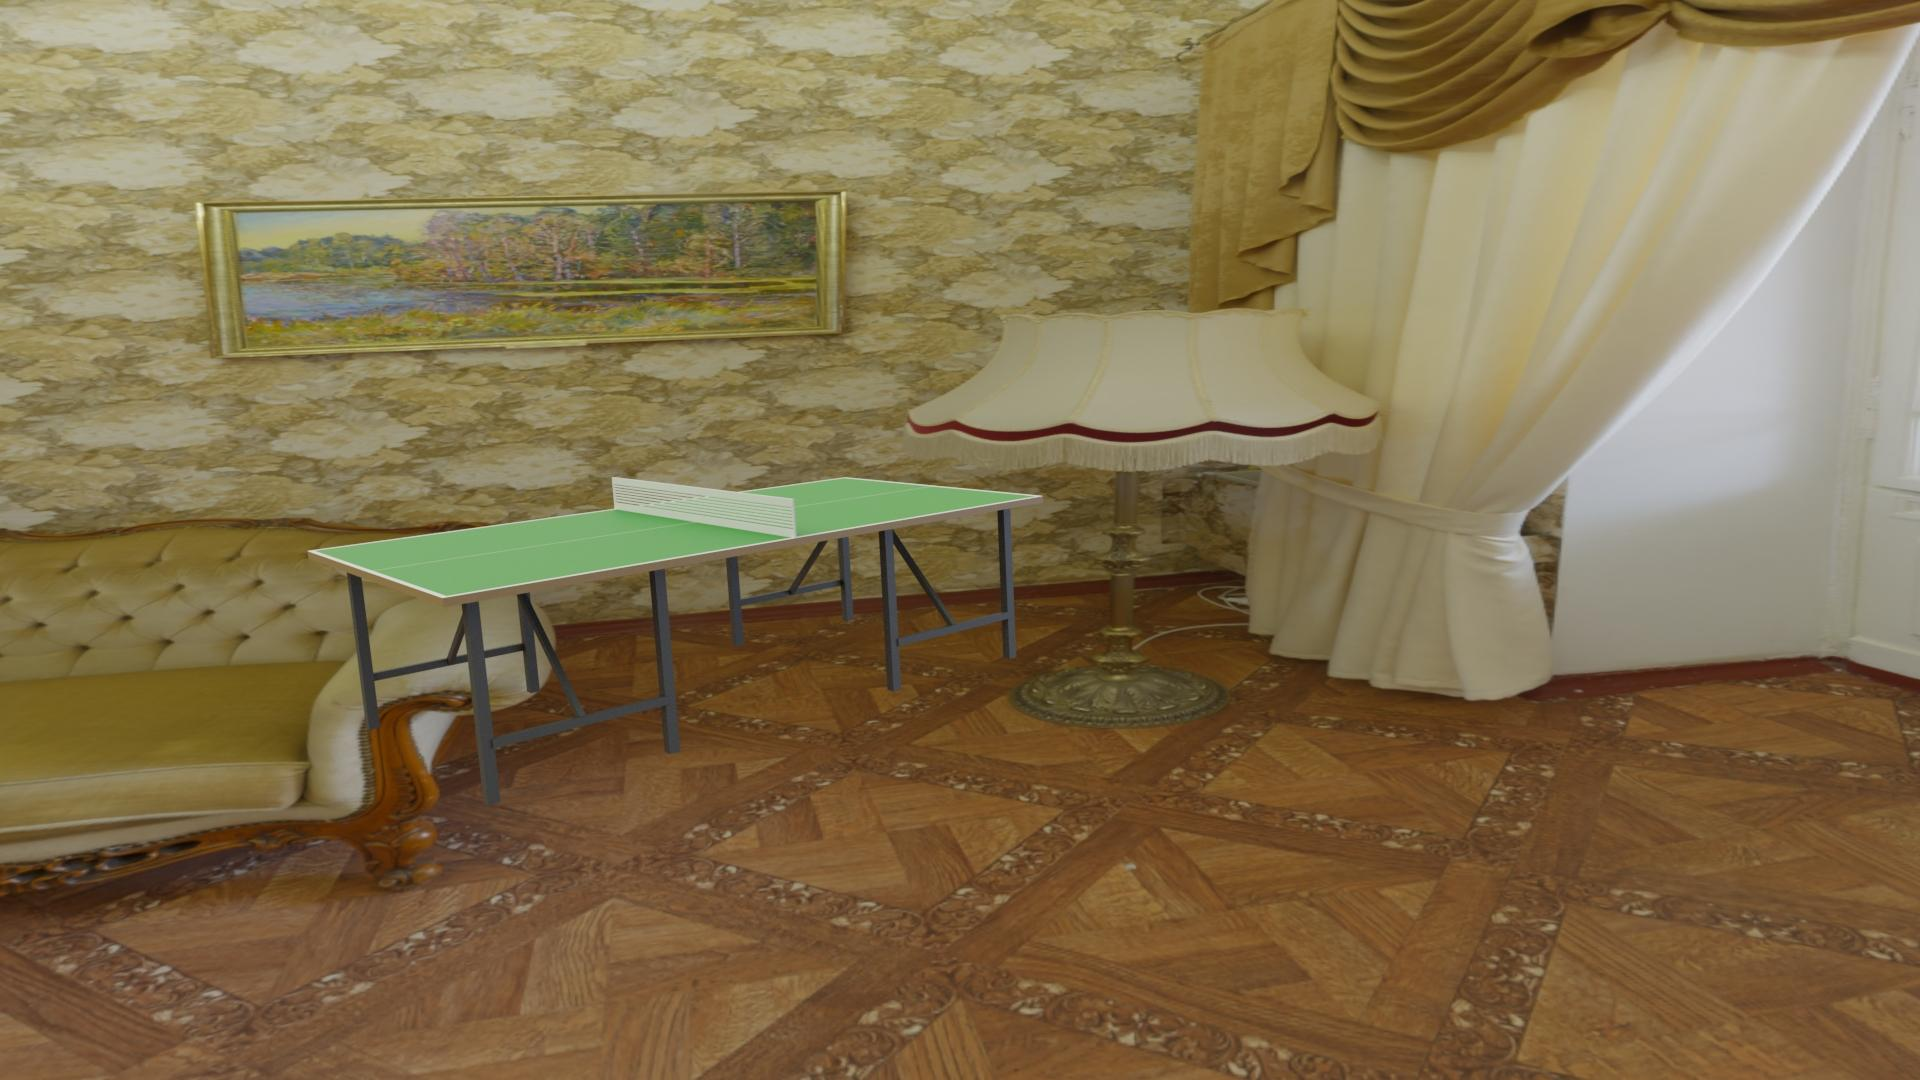table: (314, 479, 1036, 596)
